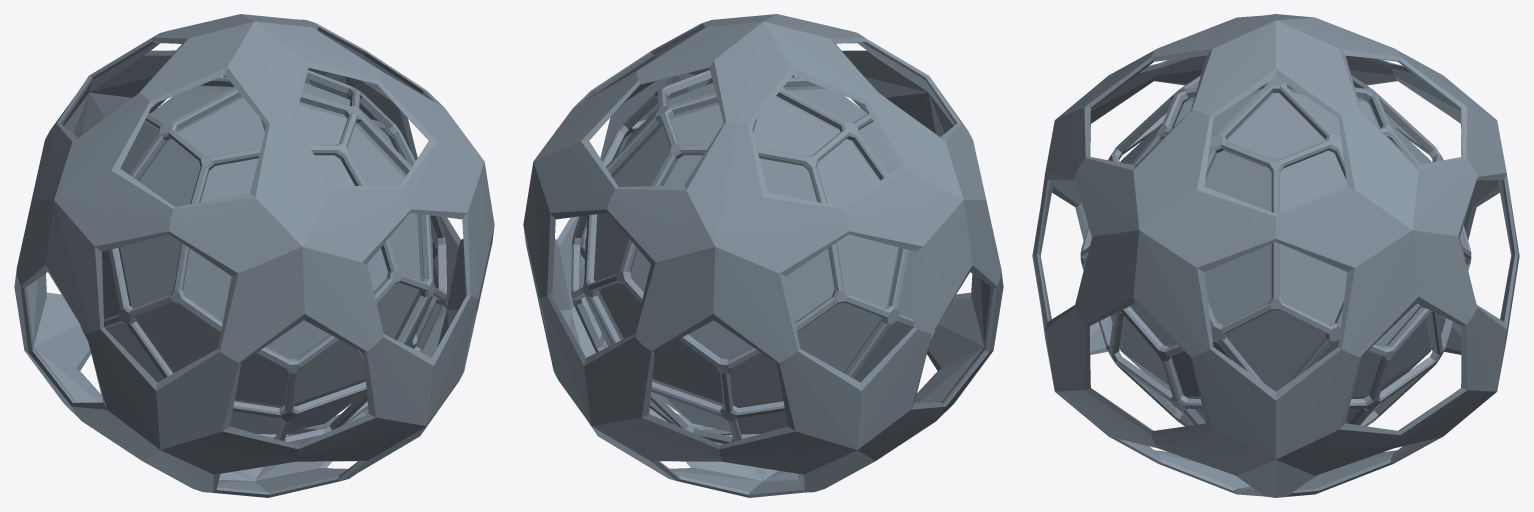
The model's file is gyrace-build-itembox.glb.
3 views of the same model, side by side, from view 1: azimuth 30°, elevation 25°; view 2: azimuth 150°, elevation 25°; view 3: azimuth 270°, elevation 25° (orthographic).
Parts seen in each view (by area): view 1: itembox; view 2: itembox; view 3: itembox.
Part boxes in pixels (x1,y1,x2,y2): itembox: (14, 14, 494, 497); itembox: (523, 14, 1003, 497); itembox: (1032, 14, 1519, 497).
Bounding box in the file's own units: 3.73 × 4 × 3.75.
